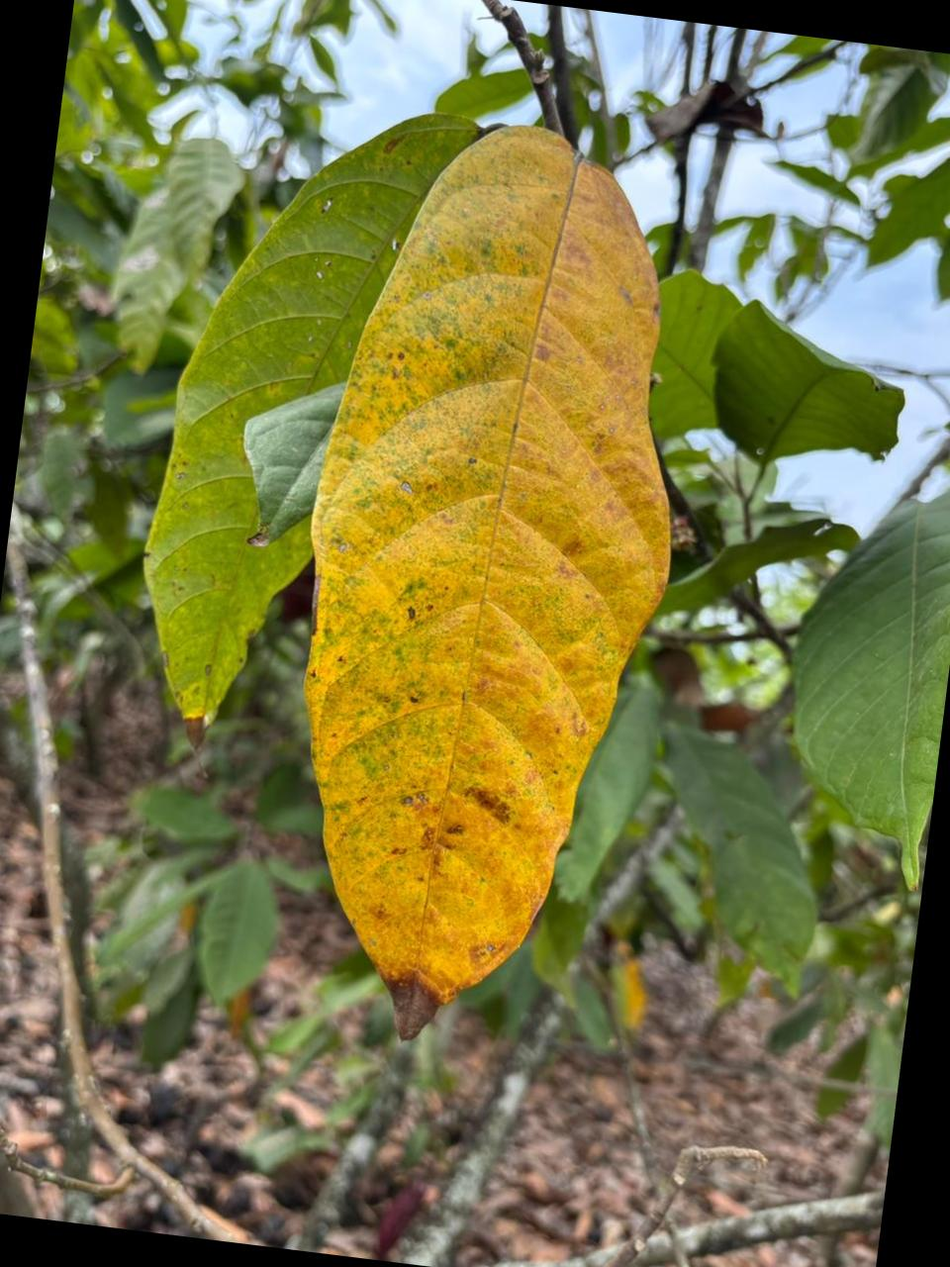Fosforo: (305, 127, 670, 1035)
